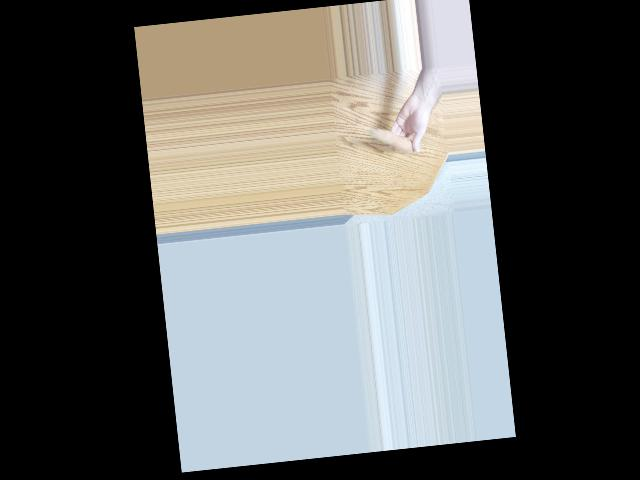sweet_potato: (367, 119, 422, 159)
